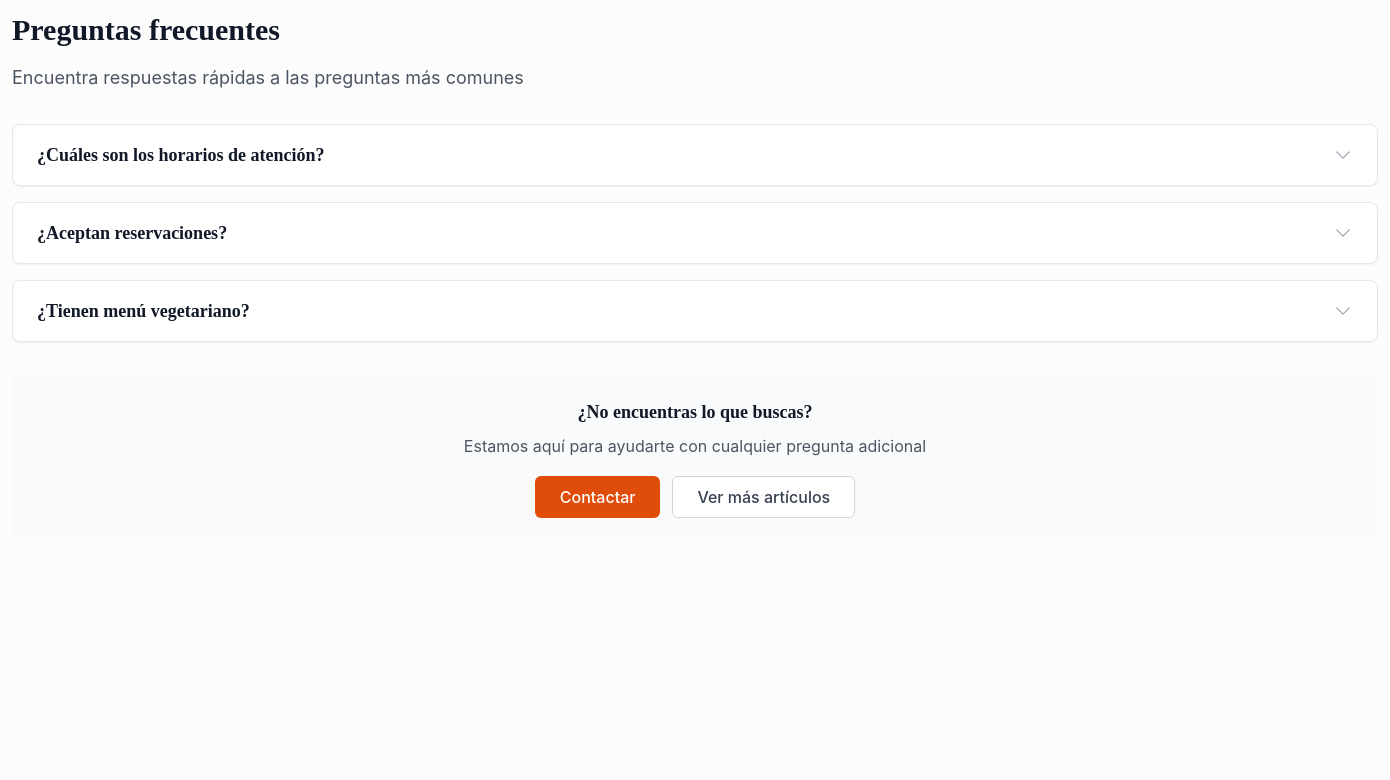
FAQ Component › allows multiple FAQ items to be open simultaneously
// Open first item
Click the button "¿Cuáles son los horarios de atención?".
click(181, 155)  # box [13,125,1377,185]
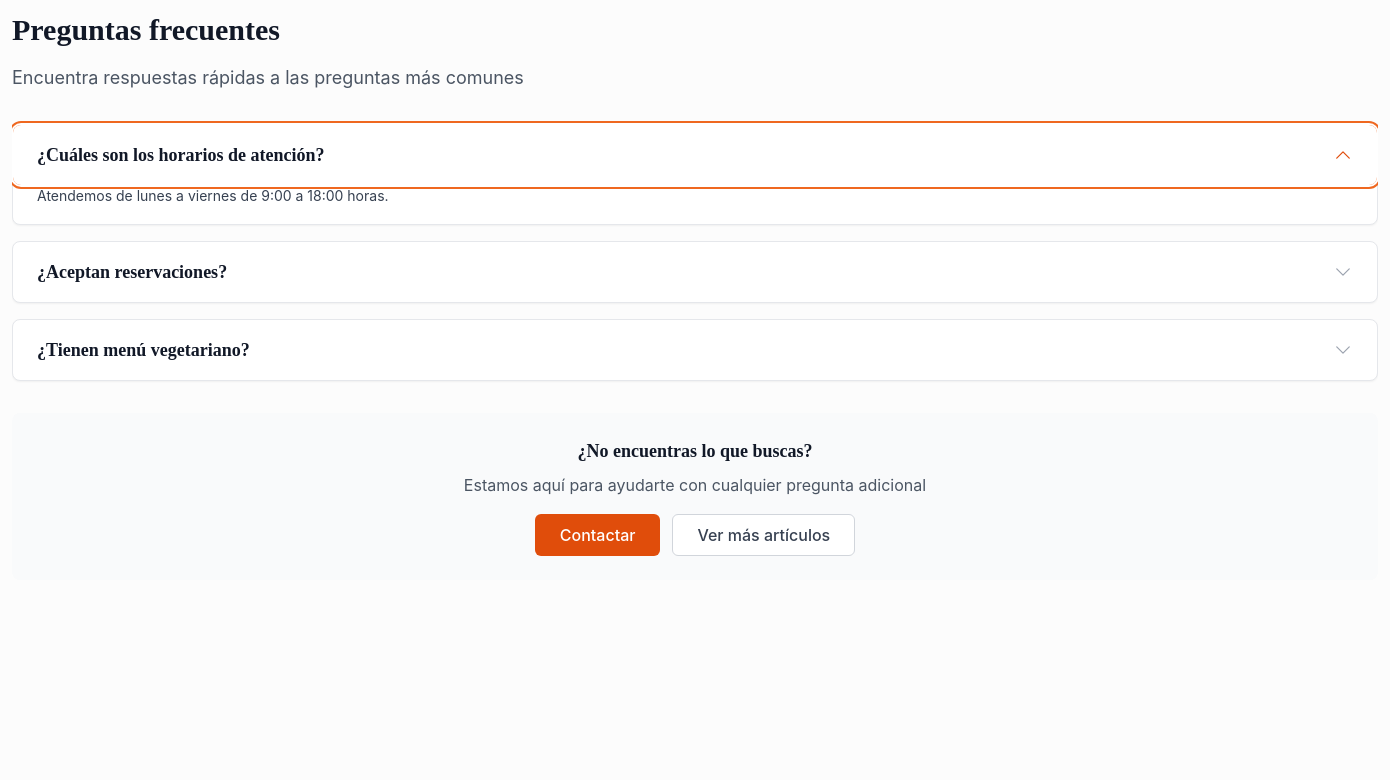
expect the text "Atendemos de lunes a viernes de 9:00 a 18:00 horas." is shown: met, box [37,187,389,204]
// Open second item
Click the button "¿Aceptan reservaciones?".
click(132, 272)  # box [13,242,1377,302]
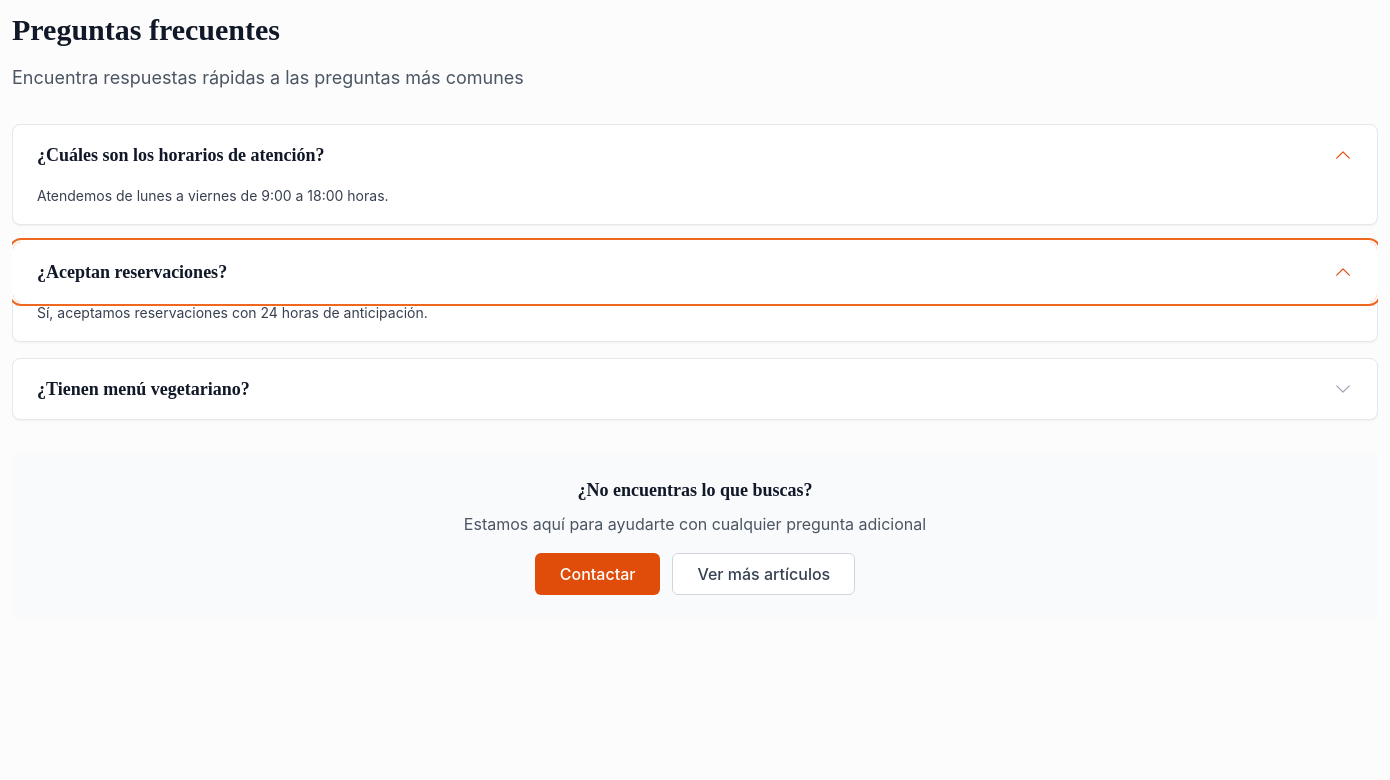
expect the text "Atendemos de lunes a viernes de 9:00 a 18:00 horas." is shown: met, box [37,187,389,204]
expect the text "Sí, aceptamos reservaciones con 24 horas de anticipación." is shown: met, box [37,304,428,321]
